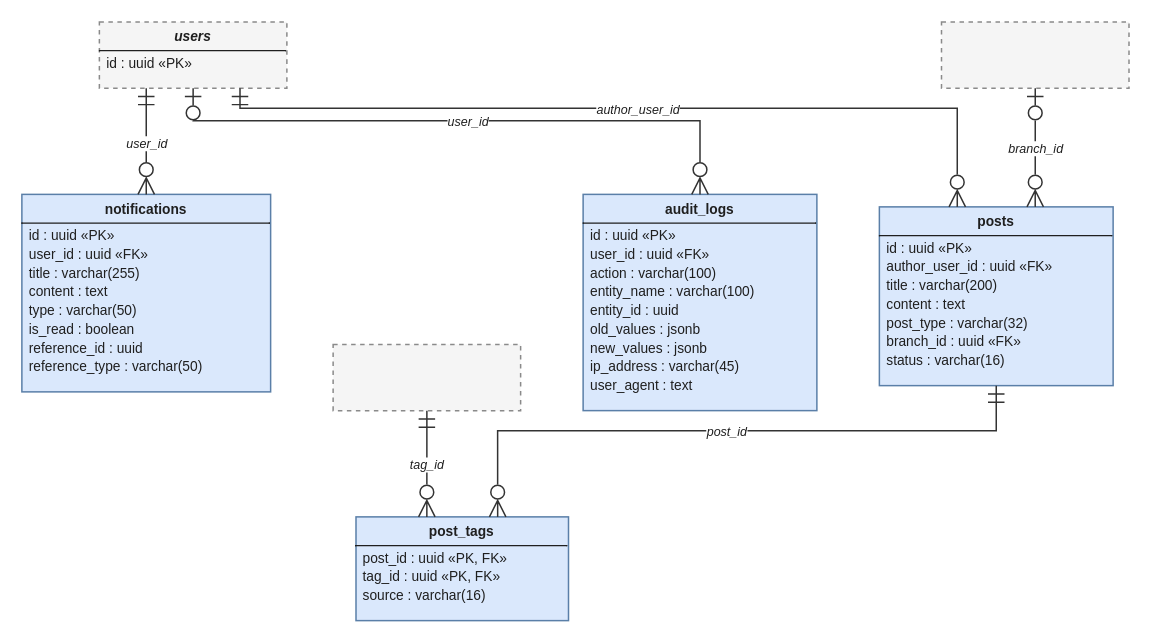
The diagram is 1151 pixels wide and 644 high, and some of its shapes have lost their labels. The centre of each missing label's shape, as x and y in pixels:
branches id : uuid «PK»: pixel 1034 54
tags id : uuid «PK»: pixel 426 377
